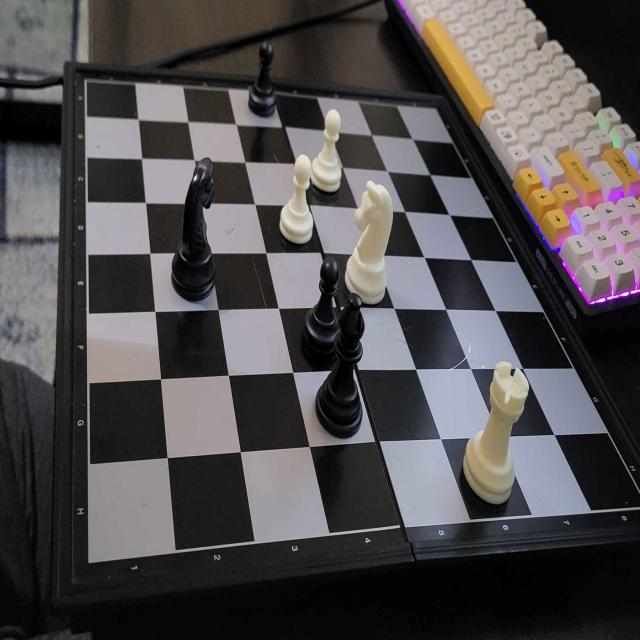black-bishop: (312, 289, 368, 449)
black-knight: (168, 150, 225, 310)
black-pawn: (301, 254, 343, 363), (247, 37, 279, 123)
chess-board: (65, 59, 640, 583)
white-knight: (343, 177, 396, 309)
white-pawn: (278, 149, 316, 252), (312, 108, 343, 198)
white-rook: (459, 356, 530, 509)
